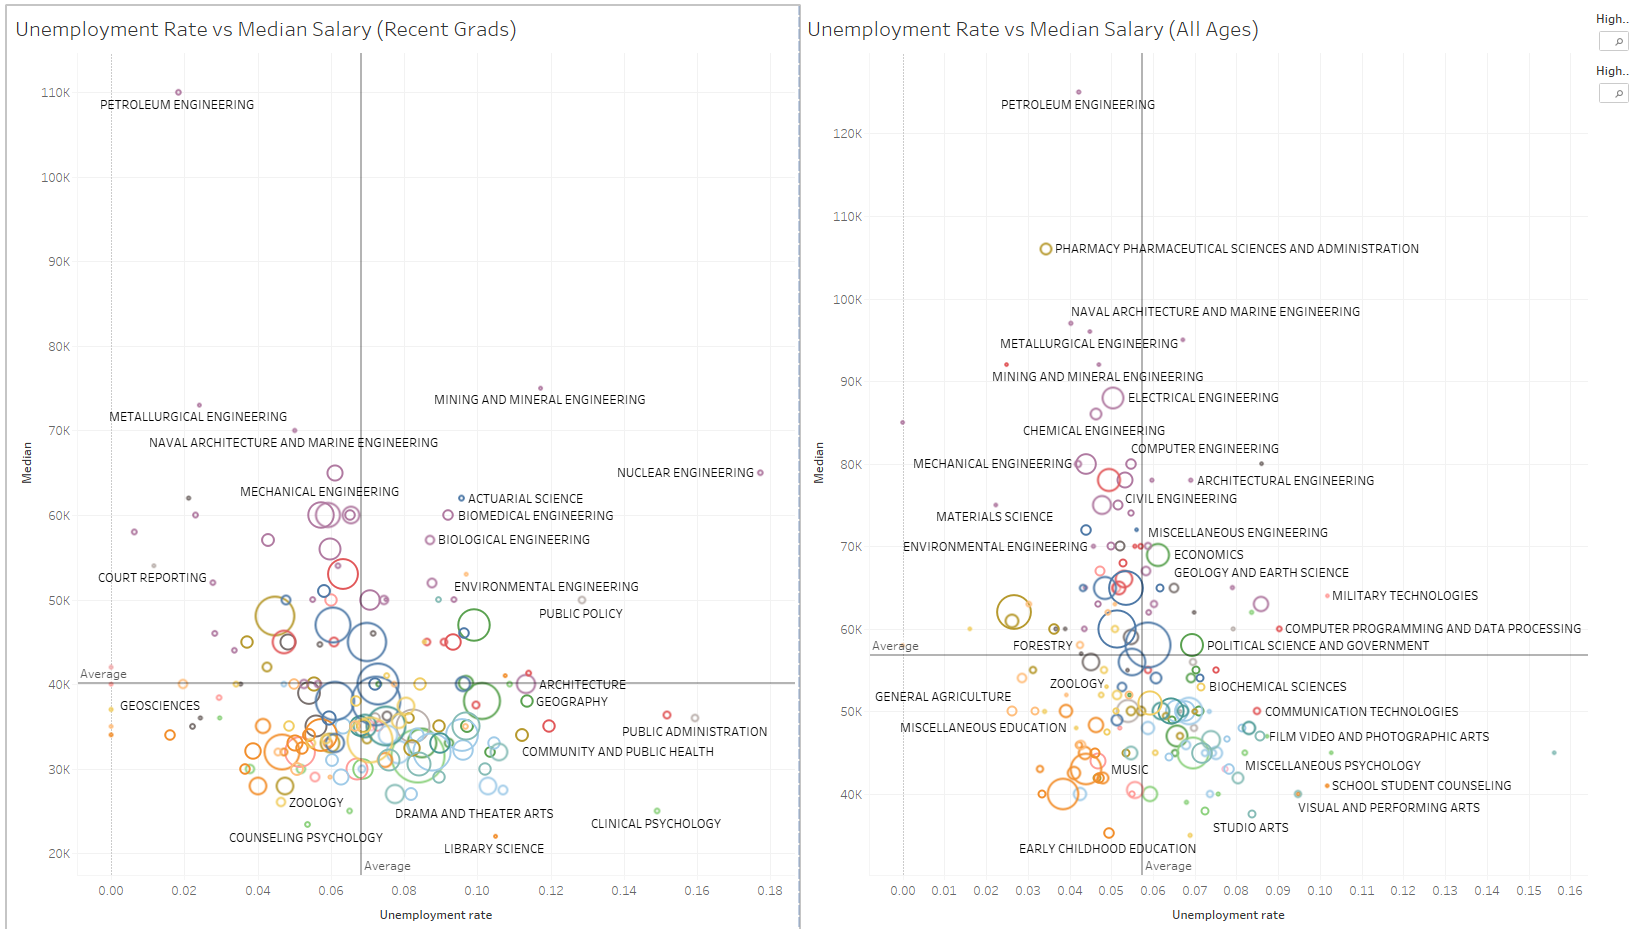

The page's visual inventory and layout, read from the dashboard file:
{"tool":"tableau","page":{"name":"DB4","canvas":[1000,1000],"units":"permille","ordinal":3},"visuals":[{"type":"worksheet","title":"Scatter1_URvSal","mark":"Automatic","rows":["Median"],"cols":["Unemployment_rate"],"box":[4.9,8.5,461.7,983.1]},{"type":"worksheet","title":"Scatter2_URvSal","mark":"Automatic","rows":["Median"],"cols":["Unemployment_rate"],"box":[466.6,8.5,461.7,983.1]},{"type":"highlighter","title":"Scatter1_URvSal","param":"[federated.1q5ycf40tl7pp21941vf40f0e6t9].[none:Major:nk]","box":[928.3,8.5,66.9,55.1]},{"type":"highlighter","title":"Scatter1_URvSal","param":"[federated.1q5ycf40tl7pp21941vf40f0e6t9].[none:Major_category:nk]","box":[928.3,63.6,66.9,55.1]}]}

Visuals, with their boxes on the dashboard's canvas, which has no fixed pixel size, in thousandths of its width and height (x1, y1, x2, y2). These are canvas units, not pixel positions in the 1639x929 screenshot, which may show the page scaled, cropped or inside an application window:
"Scatter1_URvSal" worksheet: 5, 8, 467, 992
"Scatter2_URvSal" worksheet: 467, 8, 928, 992
"Scatter1_URvSal" highlighter: 928, 8, 995, 64
"Scatter1_URvSal" highlighter: 928, 64, 995, 119
